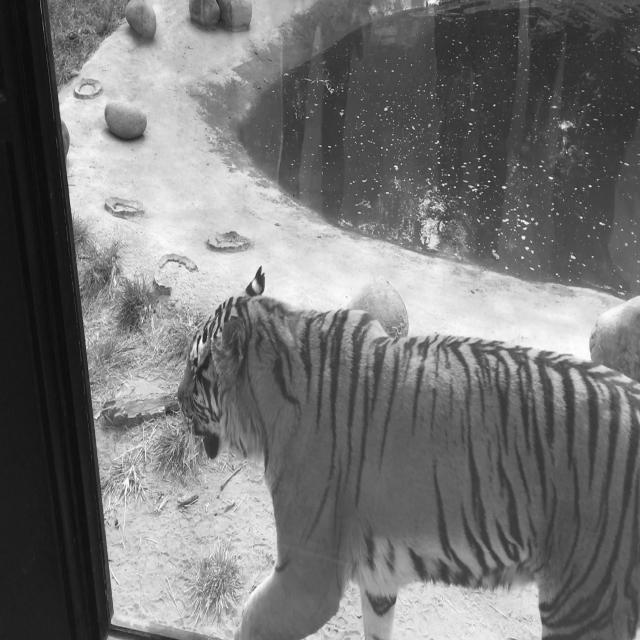Tiger: (177, 265, 639, 638)
